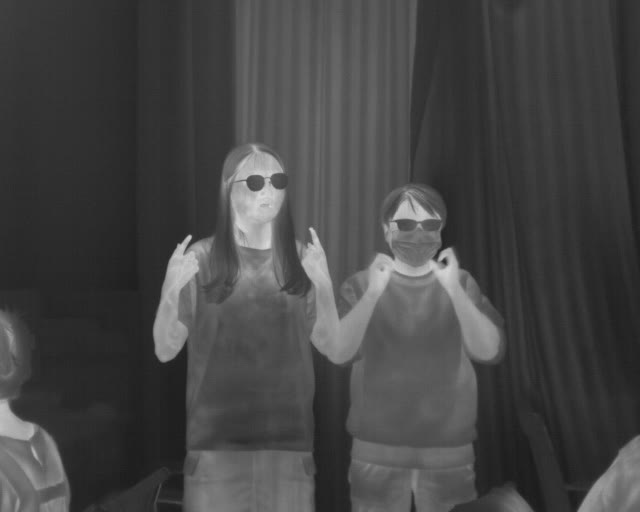face: (381, 183, 446, 268), (225, 143, 289, 223)
